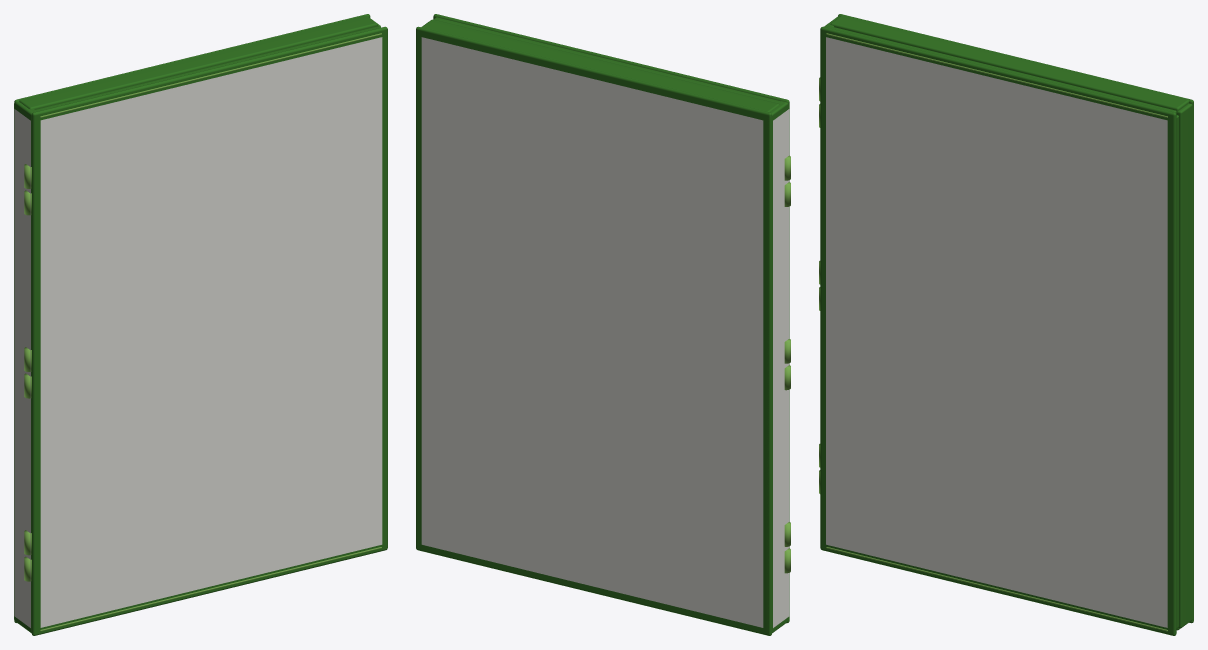
The model's file is xbox-case.glb.
3 renders of one model, left to right at view 1: azimuth 30°, elevation 25°; view 2: azimuth 150°, elevation 25°; view 3: azimuth 330°, elevation 25°, orthographic.
Parts seen in each view (by area): view 1: Case_Front, Lid_xbox injection moulded polypropylene, Case_Spine, Base_xbox injection moulded polypropylene, Lid_xbox polished moulded edges, Base_xbox polished moulded edges; view 2: Case_Back, Base_xbox injection moulded polypropylene, Case_Spine, Lid_xbox injection moulded polypropylene; view 3: Case_Front, Lid_xbox injection moulded polypropylene, Base_xbox injection moulded polypropylene, Lid_xbox polished moulded edges.
Boxes of the visible parts, box(x1,y1,x2,y2) form: Case_Front: box(40, 37, 382, 627); Lid_xbox injection moulded polypropylene: box(31, 26, 387, 635); Case_Spine: box(14, 109, 30, 627); Base_xbox injection moulded polypropylene: box(14, 14, 380, 632); Lid_xbox polished moulded edges: box(24, 33, 381, 631); Base_xbox polished moulded edges: box(24, 190, 31, 581); Case_Back: box(421, 37, 763, 627); Base_xbox injection moulded polypropylene: box(416, 19, 788, 635); Case_Spine: box(773, 109, 789, 627); Lid_xbox injection moulded polypropylene: box(433, 14, 789, 623); Case_Front: box(826, 37, 1167, 627); Lid_xbox injection moulded polypropylene: box(820, 26, 1178, 635); Base_xbox injection moulded polypropylene: box(824, 14, 1193, 630); Lid_xbox polished moulded edges: box(819, 33, 1167, 631).
Bounding box in the file's own units: 1.57 × 2.18 × 0.156.
